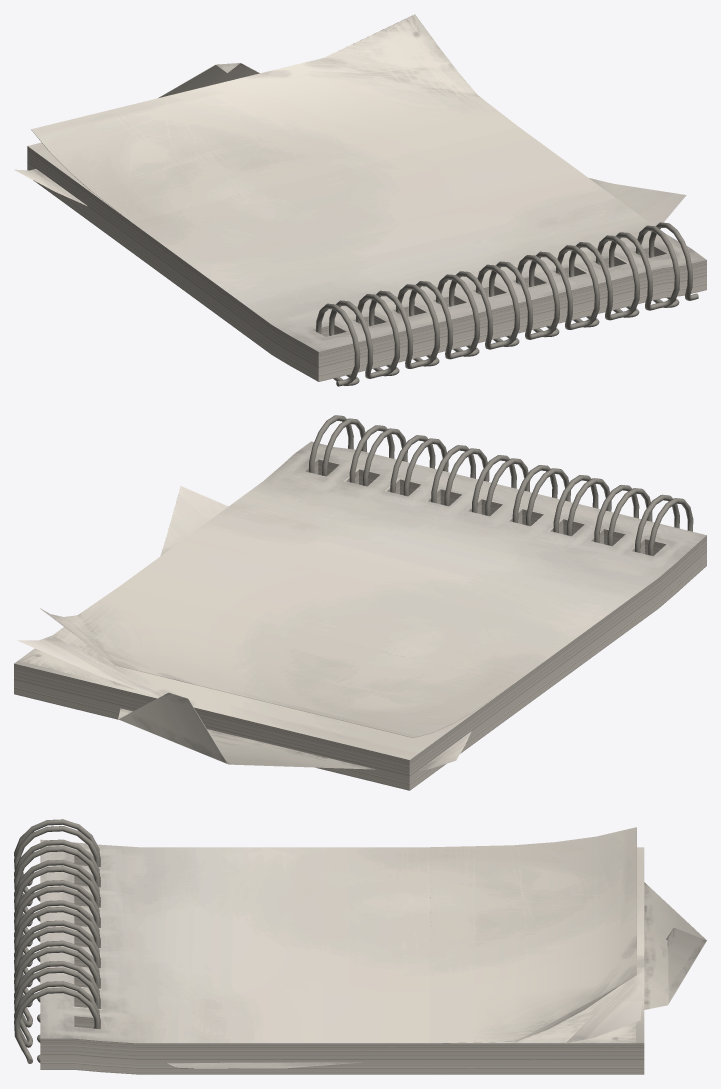
The model's file is NotePad.obj.
The picture shows the model from 3 angles, top to bottom: view 1: azimuth 30°, elevation 25°; view 2: azimuth 150°, elevation 25°; view 3: azimuth 270°, elevation 25°; orthographic projection. The views are drawn at different scales.
Visible parts, largest first — view 1: Torus.002_Torus.005, Torus.003_Torus.006; view 2: Torus.002_Torus.005, Torus.003_Torus.006; view 3: Torus.002_Torus.005, Torus.003_Torus.006.
Boxes of the visible parts, <box> form: Torus.002_Torus.005: <box>14,14,706,381</box>; Torus.003_Torus.006: <box>316,222,698,386</box>; Torus.002_Torus.005: <box>14,441,706,790</box>; Torus.003_Torus.006: <box>308,415,693,555</box>; Torus.002_Torus.005: <box>40,827,706,1074</box>; Torus.003_Torus.006: <box>14,819,100,1063</box>.
Size of the model in its own units: 9.71 by 1.65 by 11.93.
